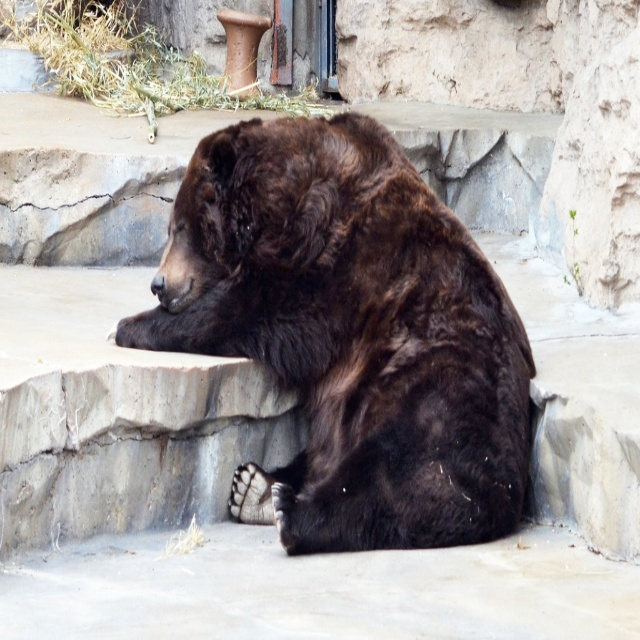Brown bear: (104, 114, 537, 558)
